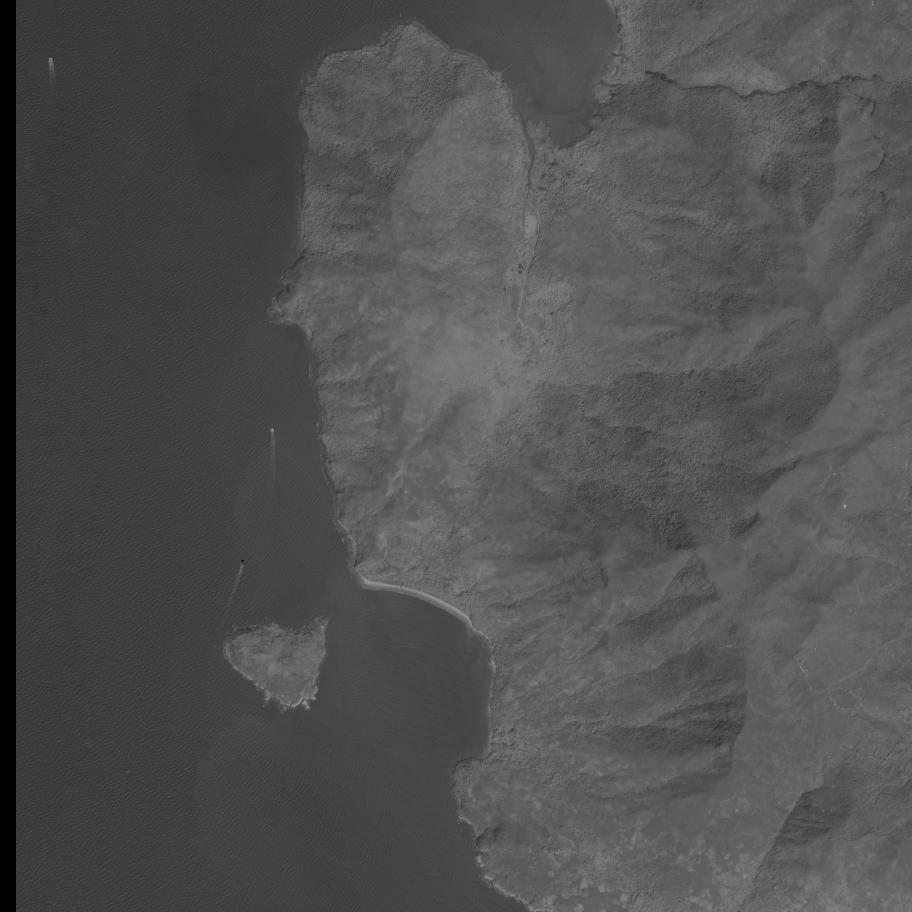ship: (270, 428, 274, 433), (49, 58, 52, 62), (242, 560, 243, 565)
